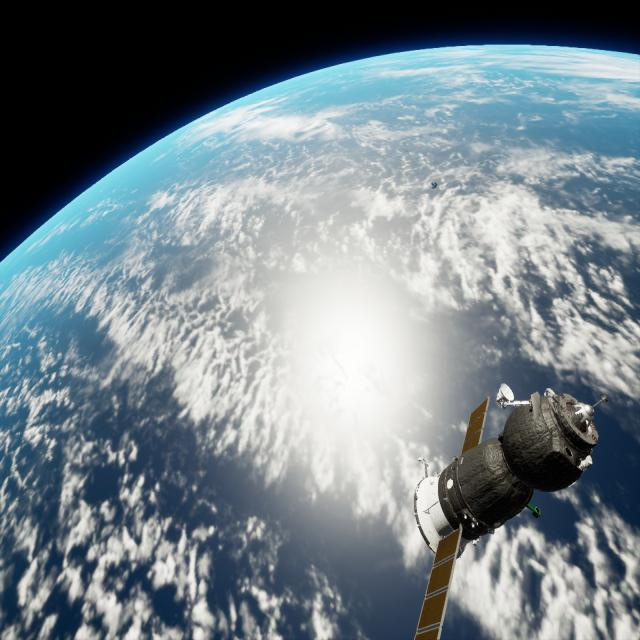Satellites revolving around earth: (1, 43, 638, 637), (411, 381, 609, 638)
